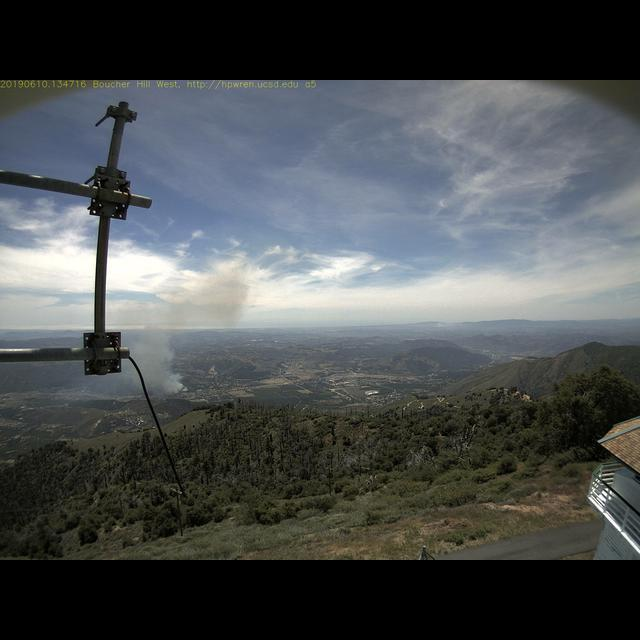Smoke: (126, 251, 251, 391)
